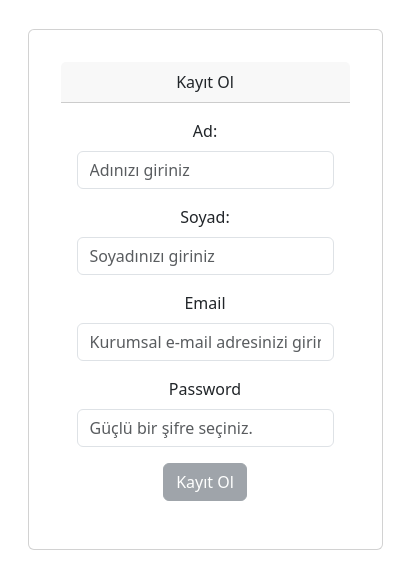
Login Page › Error Messages › Email input throws for invalid format
The width and height of the screenshot is (412, 579).
Type "emre@wit" into the field with test id "email-input" at (206, 342), box [77, 323, 334, 361]
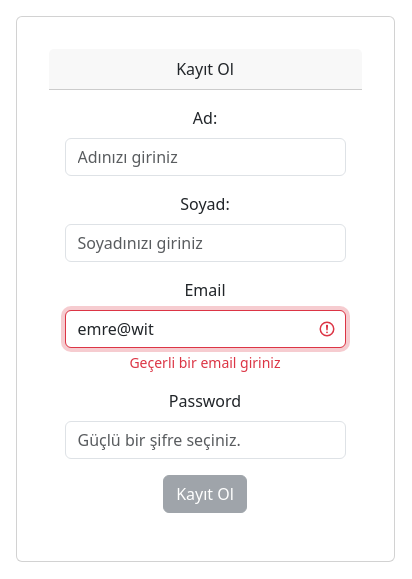
Result: the text "Geçerli bir email giriniz" is shown at [129, 353, 281, 372]
